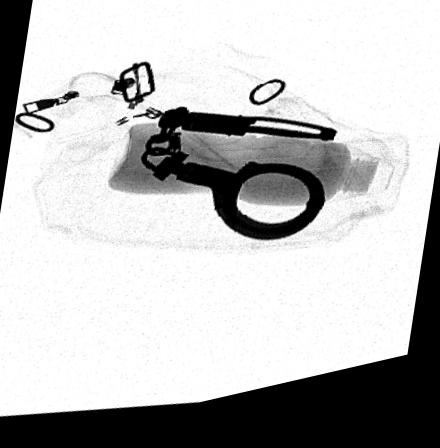HandCuffs: (139, 114, 336, 251)
